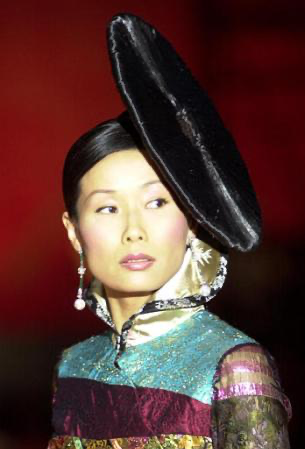Face: (72, 171, 191, 300)
